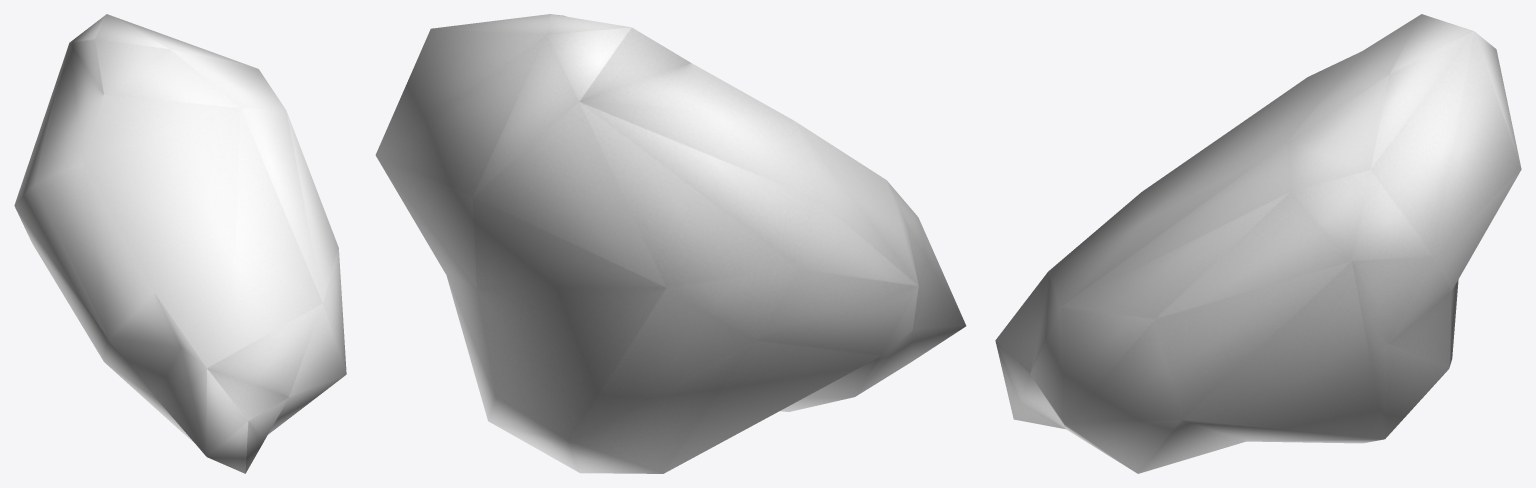
File: asteroide_destructible.fbx
3 renders of one model, left to right at view 1: azimuth 30°, elevation 25°; view 2: azimuth 150°, elevation 25°; view 3: azimuth 270°, elevation 25°, orthographic. The views are drawn at different scales.
Visible parts, largest first — view 1: asteroide01; view 2: asteroide01; view 3: asteroide01.
Part boxes in pixels (box(x1,y1,x2,y2)): asteroide01: box(14, 14, 346, 473); asteroide01: box(375, 14, 966, 473); asteroide01: box(995, 14, 1521, 473).
Bounding box in the file's own units: 497 × 591 × 672.
